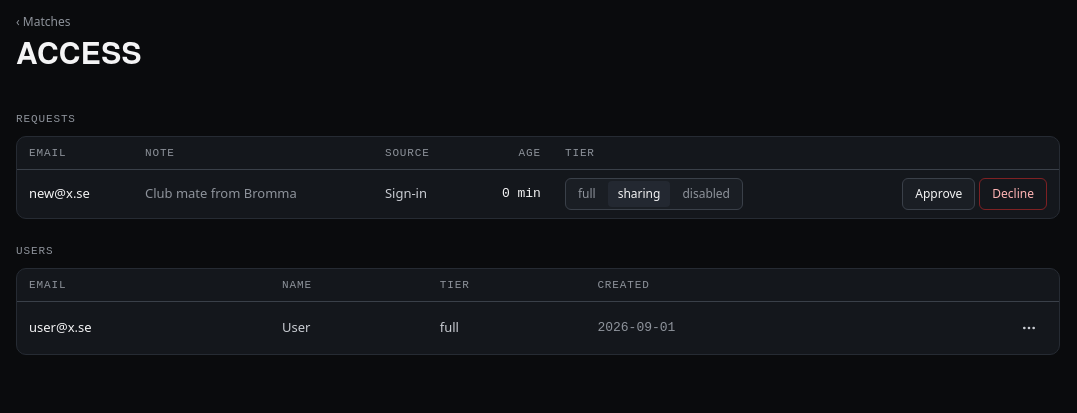
AdminAccess › says someone else decided on a 409 and reloads
Click the button "Decline" at point(1013, 194), box [979,178,1047,210]
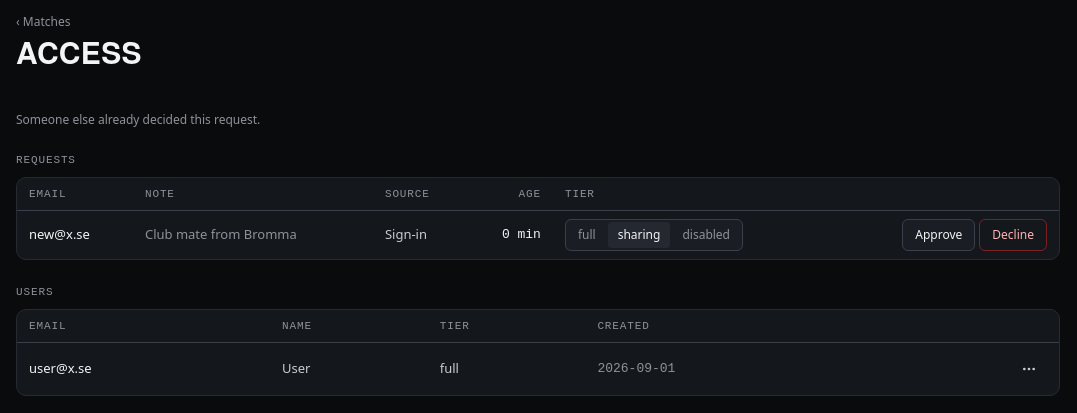
Expected: the text "Someone else already decided this request." is shown, [16,111,260,128]
